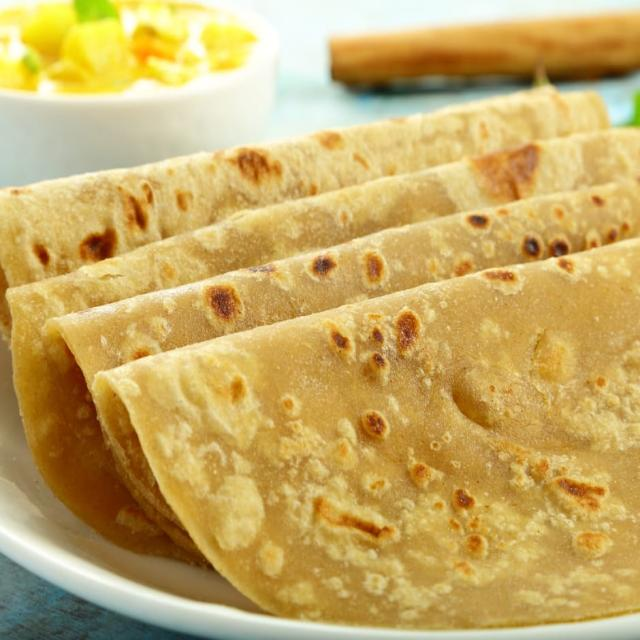chapathi: (77, 248, 640, 633), (0, 94, 630, 308)
